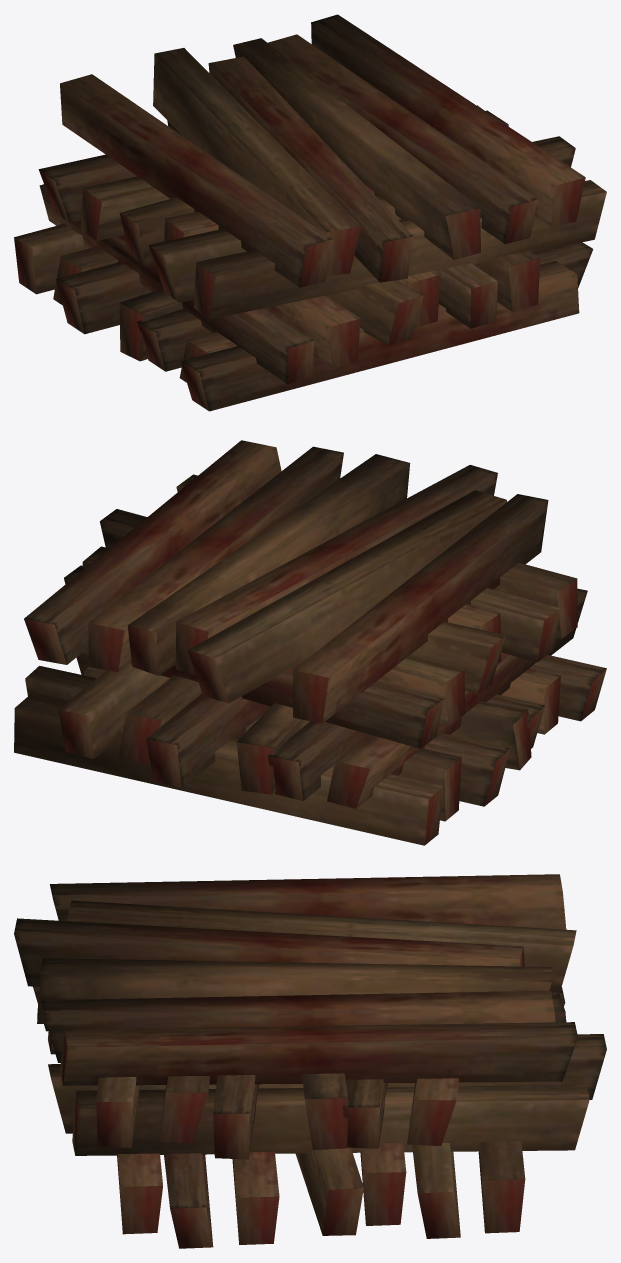
Rendered from S_Build_Forest030.FBX.
3 views of the same model, one above another, from view 1: azimuth 30°, elevation 25°; view 2: azimuth 150°, elevation 25°; view 3: azimuth 270°, elevation 25° (orthographic). The views are drawn at different scales.
Visible parts, largest first — view 1: S_Build_Forest030; view 2: S_Build_Forest030; view 3: S_Build_Forest030.
Boxes of the visible parts, x1,y1,x2,y2 form: S_Build_Forest030: (14, 14, 606, 411); S_Build_Forest030: (14, 440, 606, 845); S_Build_Forest030: (14, 874, 606, 1248).
Size of the model in its own units: 344 by 358 by 124.
